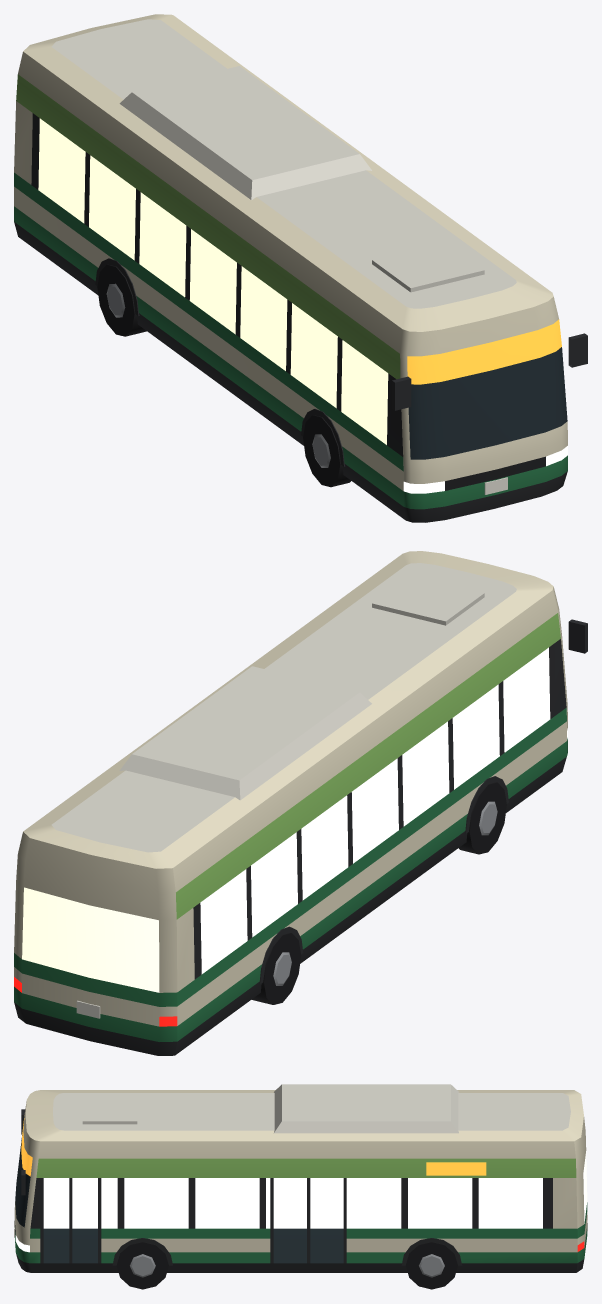
The model's file is tokyo_bus.glb.
3 views of the same model, one above another, from view 1: azimuth 30°, elevation 25°; view 2: azimuth 150°, elevation 25°; view 3: azimuth 270°, elevation 25° (orthographic). The views are drawn at different scales.
Visible parts, largest first — view 1: tokyo_bus; view 2: tokyo_bus; view 3: tokyo_bus.
Part boxes in pixels (x1,y1,x2,y2): tokyo_bus: (14,14,587,522); tokyo_bus: (14,551,587,1055); tokyo_bus: (14,1084,587,1289).
Size of the model in its own units: 2.87 by 3.2 by 10.52.
1 material, 1 textured.
